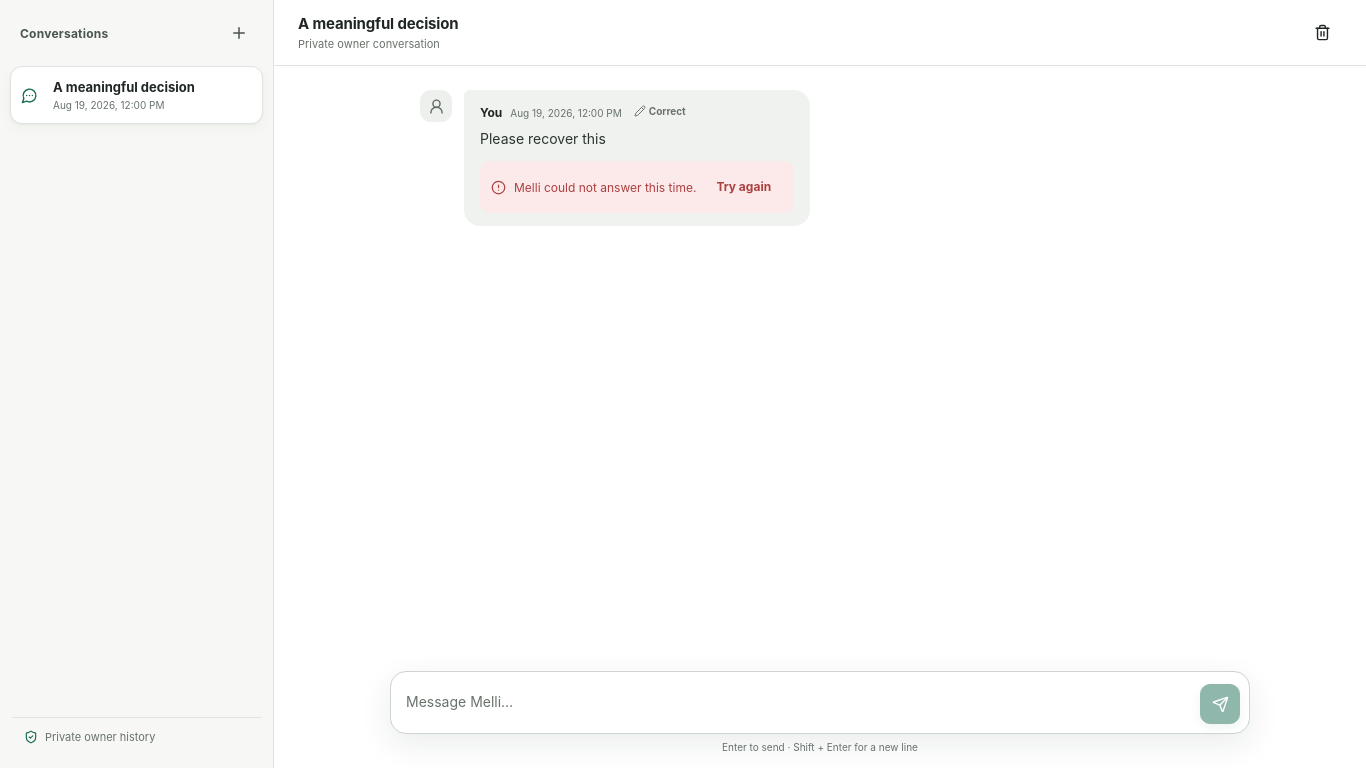
Test case: ConversationPage › uses the authoritative resume response without a fragile follow-up read
What coordinates should you click on to do the following:
click the button "Try again"
I would click on:
 (744, 187)
Its box is [704, 170, 783, 204].
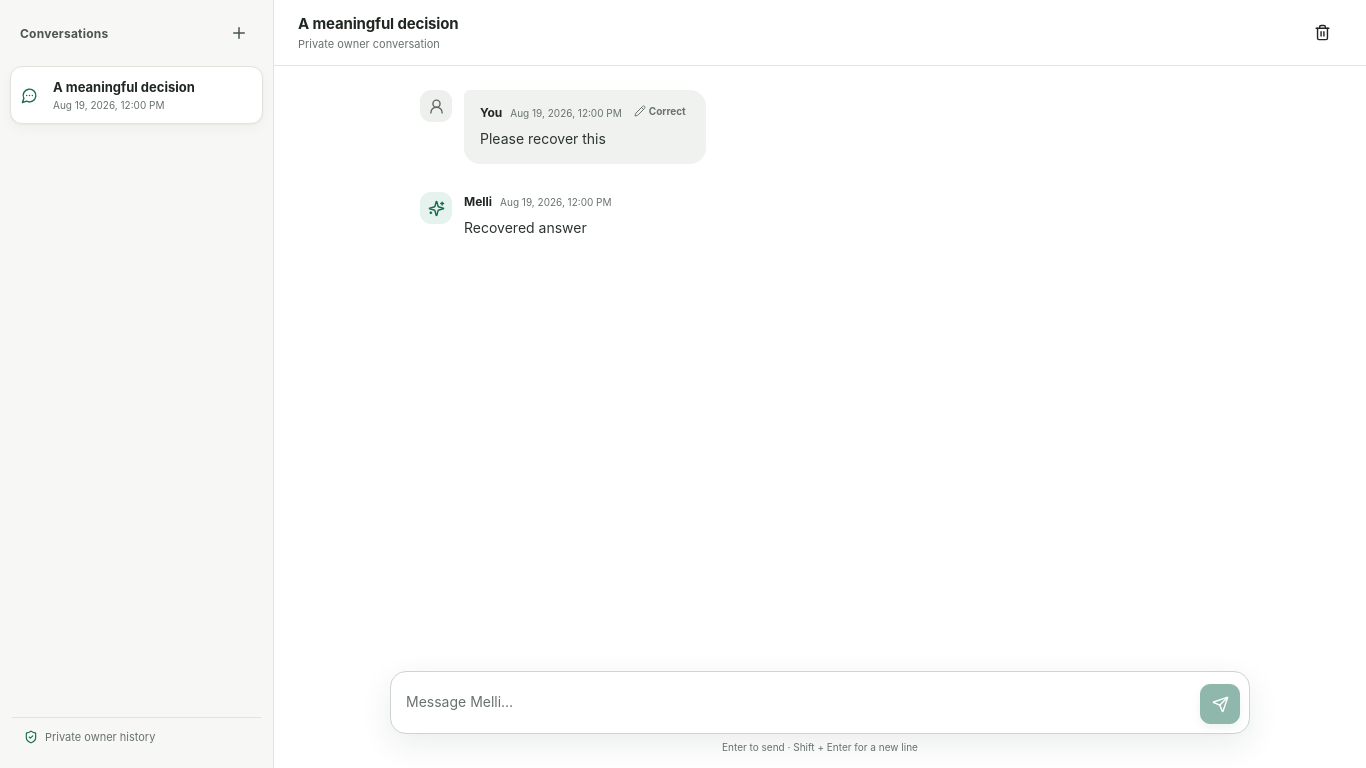
Result: the text "Recovered answer" is shown at [464, 219, 587, 236]
Result: the text "Melli could not answer this time." is gone
